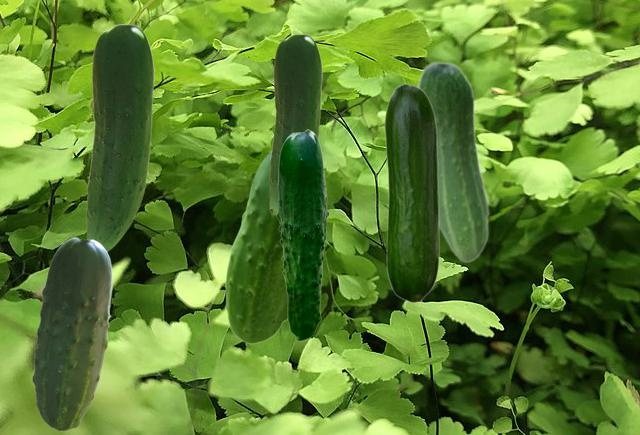cucumber: (32, 237, 111, 430), (86, 24, 153, 251), (417, 60, 489, 262), (384, 83, 439, 302), (225, 149, 286, 343), (276, 129, 328, 340), (269, 34, 321, 214)
